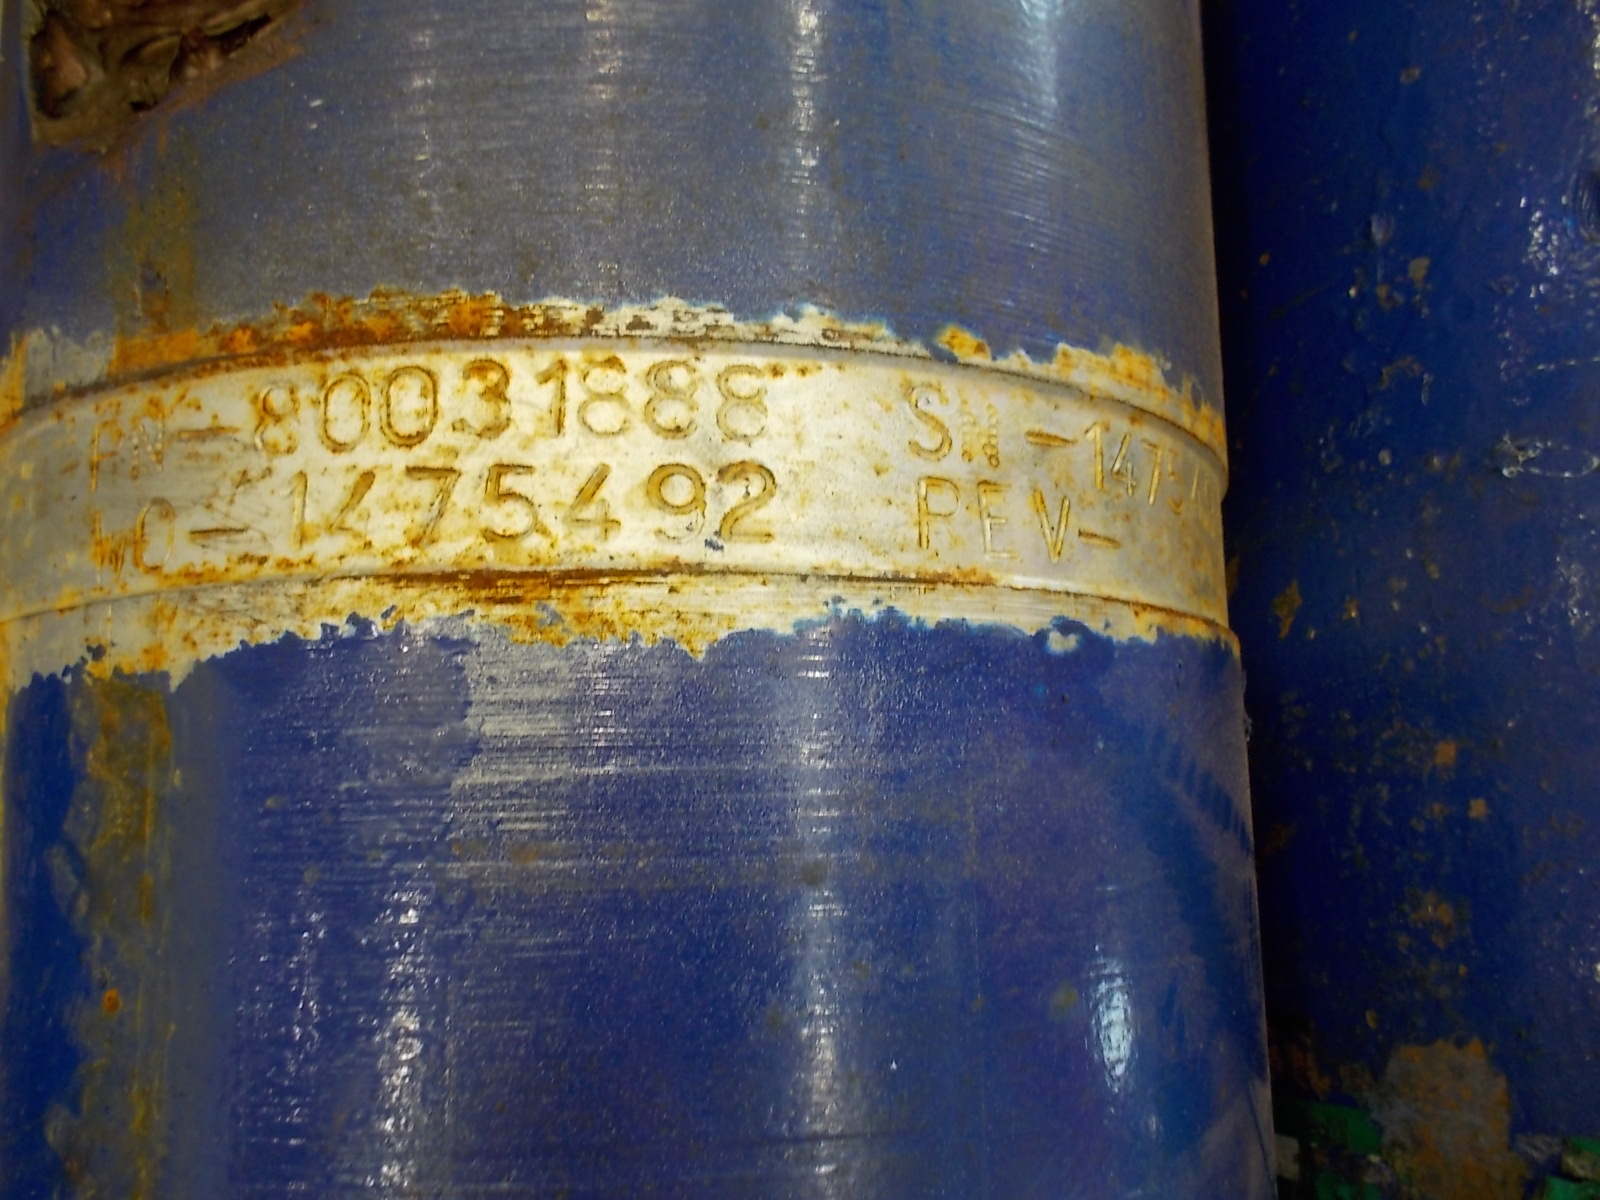character: (391, 450, 472, 562), (472, 450, 556, 555), (562, 453, 644, 552), (644, 453, 718, 551), (718, 455, 794, 551), (307, 361, 375, 465), (636, 342, 706, 442), (328, 458, 391, 562), (706, 352, 775, 442), (574, 342, 636, 442), (461, 350, 515, 460), (375, 361, 440, 453), (889, 378, 956, 466), (911, 470, 973, 563), (248, 371, 305, 465), (973, 471, 1028, 563), (134, 493, 186, 589), (278, 456, 325, 563), (528, 348, 574, 447), (176, 507, 254, 562), (1031, 482, 1077, 570), (127, 400, 168, 495), (956, 395, 1008, 466), (83, 413, 127, 495), (86, 505, 129, 586), (173, 415, 242, 461), (1107, 421, 1136, 505), (1081, 413, 1107, 505), (1020, 418, 1082, 458), (1140, 427, 1164, 521), (1162, 437, 1186, 516), (1075, 526, 1136, 553), (1189, 461, 1203, 534), (449, 418, 474, 436)
